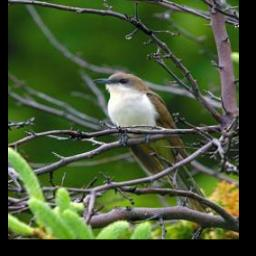Cuckoo: (98, 70, 215, 215)
